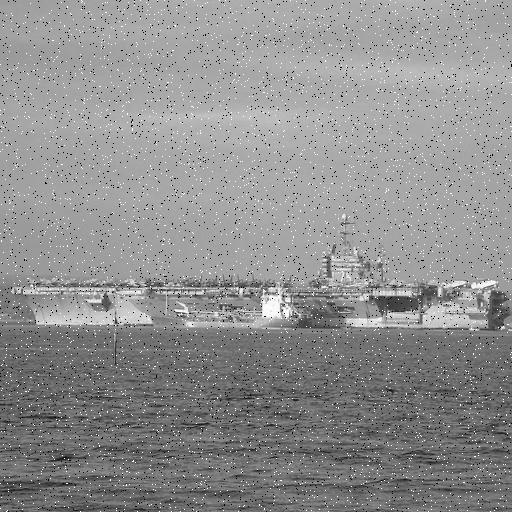Portanaves: (7, 205, 512, 331)
